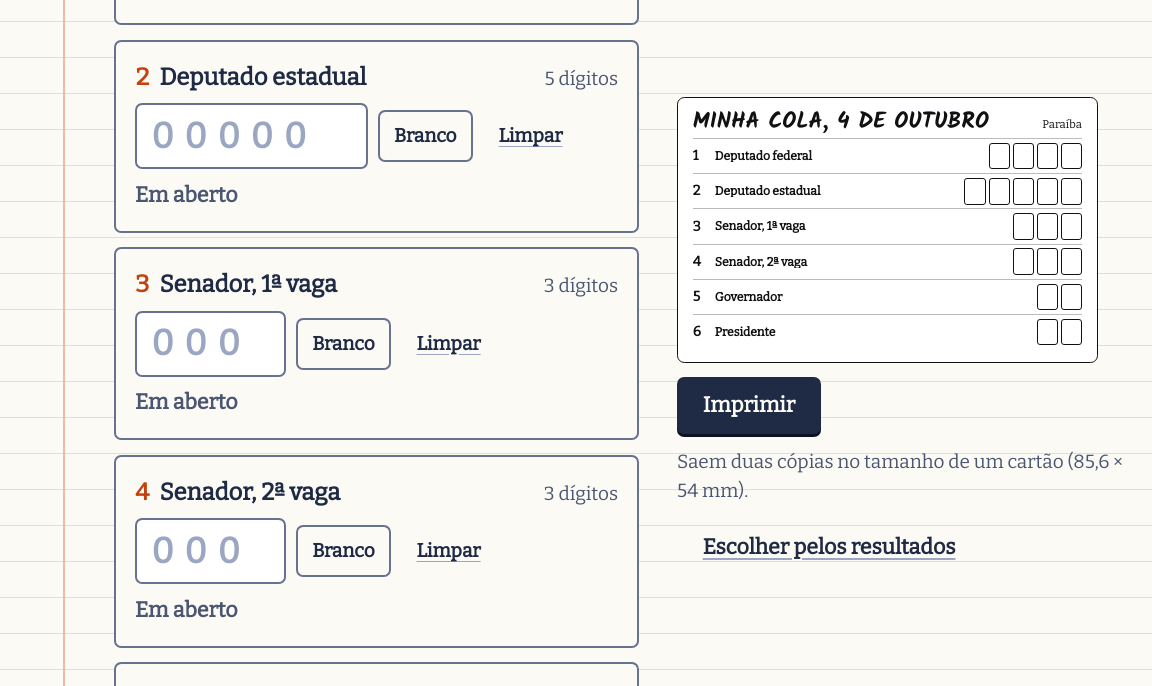
cola manual entry › looks the number up like the urna and fills the card
The image size is (1152, 686).
(page scrolled)
Type "155" into the field labelled "3Senador, 1ª vaga" at (211, 344), box [135,311,286,377]
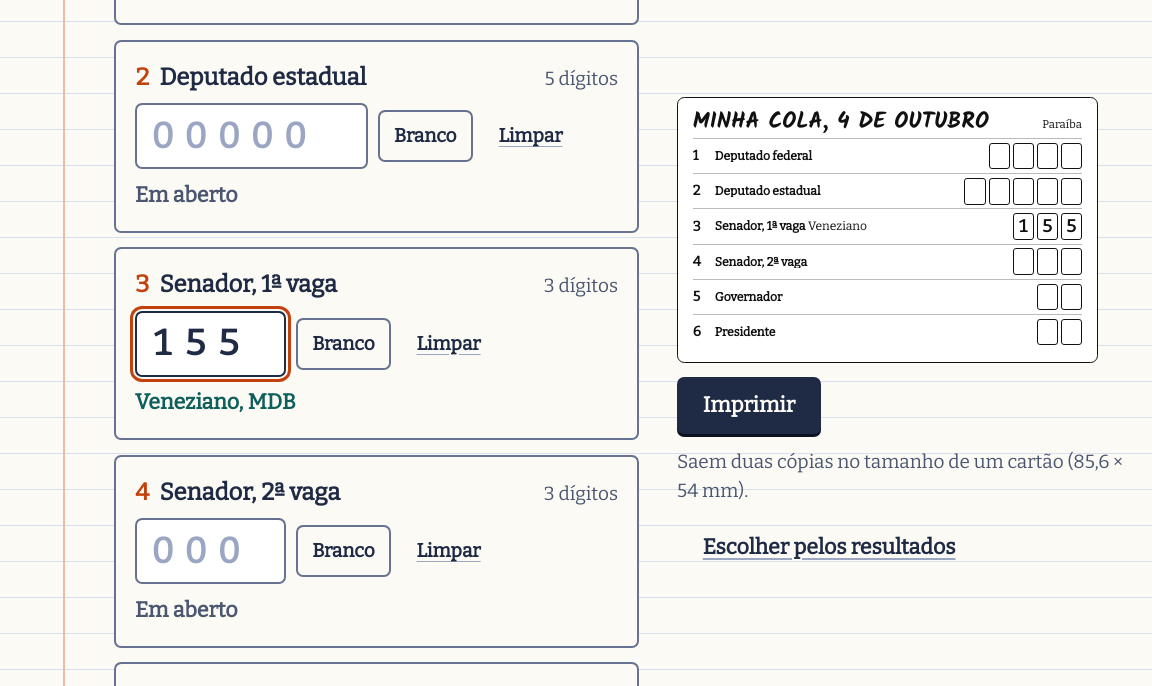
Check: the text "Veneziano, MDB" is shown, box [135,389,296,415]
Check: the text "Veneziano" is shown, box [808,219,867,233]
